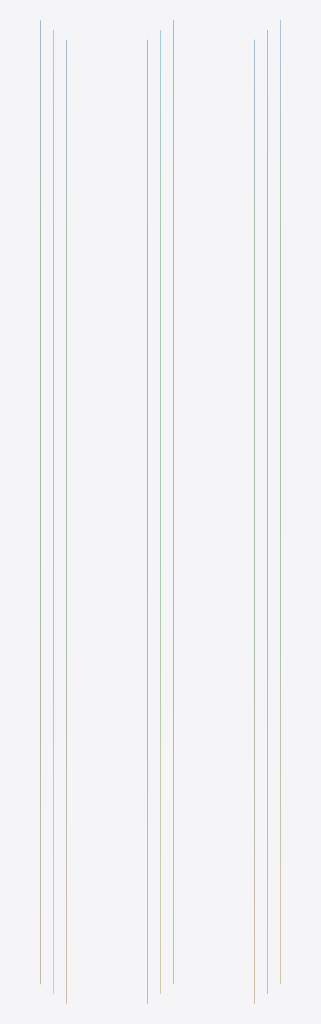
The model's file is SM_DarklineForSpline2_9.FBX.
3 views of the same model, side by side, from view 1: azimuth 30°, elevation 25°; view 2: azimuth 150°, elevation 25°; view 3: azimuth 330°, elevation 25° (orthographic).
Visible parts, largest first — view 1: SM_DarklineForSpline2_9; view 2: SM_DarklineForSpline2_9; view 3: SM_DarklineForSpline2_9.
Boxes of the visible parts, x1=… form: SM_DarklineForSpline2_9: x1=40, y1=20, x2=66, y2=1003; SM_DarklineForSpline2_9: x1=147, y1=20, x2=173, y2=1003; SM_DarklineForSpline2_9: x1=254, y1=20, x2=280, y2=1003.
Bounding box in the file's own units: 11.21 × 10.02 × 200.
